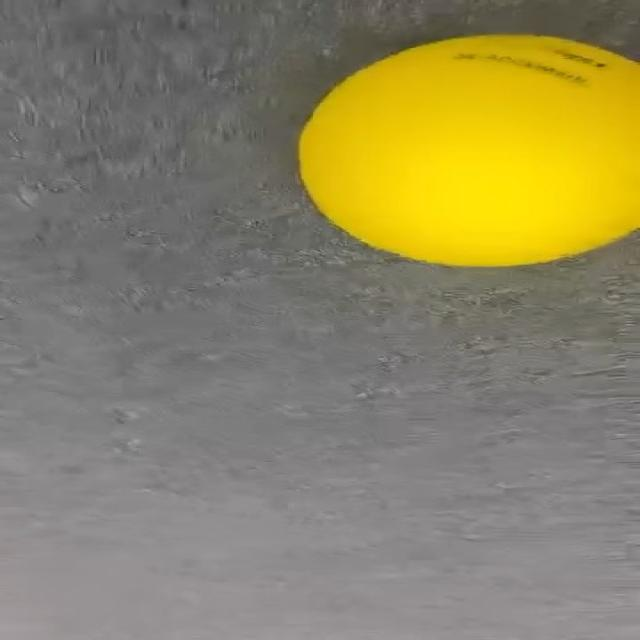Fuels: (298, 31, 640, 269)
